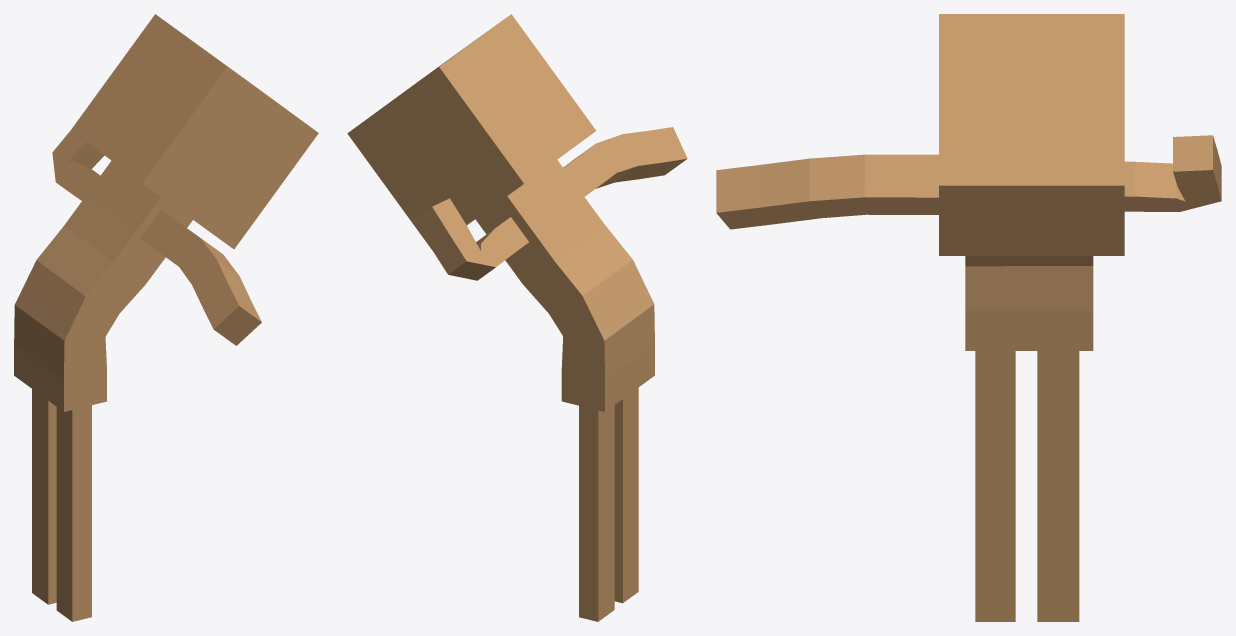
Rendered from Mi personaje.obj.
3 views of the same model, side by side, from view 1: azimuth 30°, elevation 25°; view 2: azimuth 150°, elevation 25°; view 3: azimuth 270°, elevation 25° (orthographic). The views are drawn at different scales.
Parts seen in each view (by area): view 1: Humano; view 2: Humano; view 3: Humano.
Boxes of the visible parts, x1,y1,x2,y2 form: Humano: (14, 14, 318, 621); Humano: (347, 14, 687, 621); Humano: (716, 14, 1221, 621).
Size of the model in its own units: 3.92 by 8.14 by 5.45.
